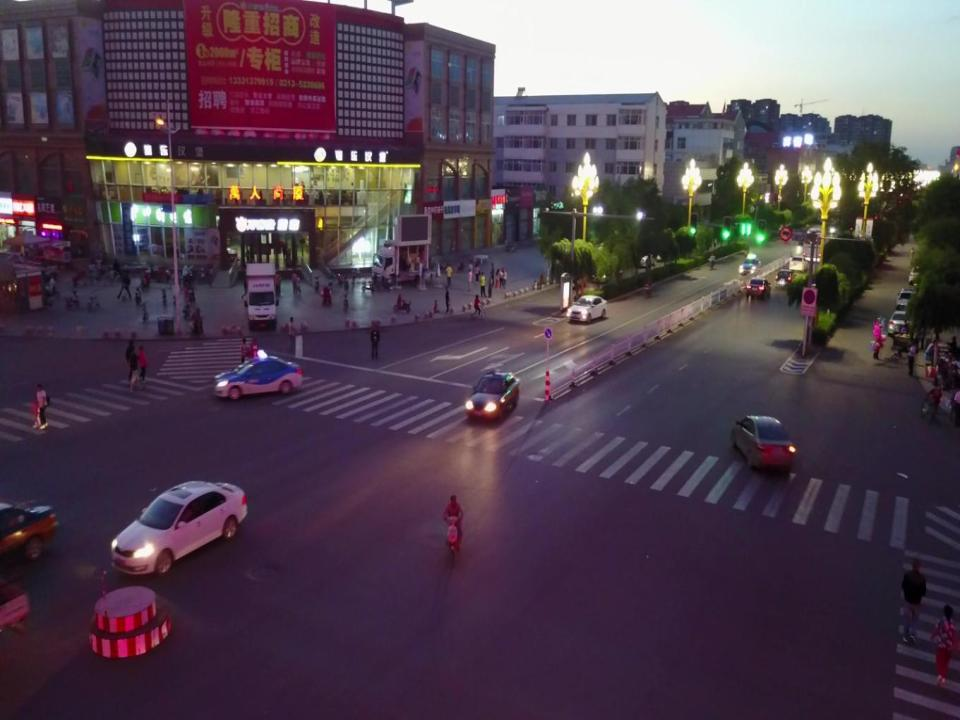bus: (803, 226, 828, 262)
car: (104, 475, 248, 580), (211, 357, 306, 399), (732, 412, 796, 474), (0, 502, 58, 560), (462, 372, 523, 422), (568, 294, 609, 322), (888, 307, 910, 338), (744, 277, 772, 297), (739, 255, 762, 278), (897, 289, 917, 310), (775, 267, 795, 287), (787, 255, 808, 272), (910, 264, 922, 282)
truck: (372, 237, 438, 283), (244, 262, 278, 331)
